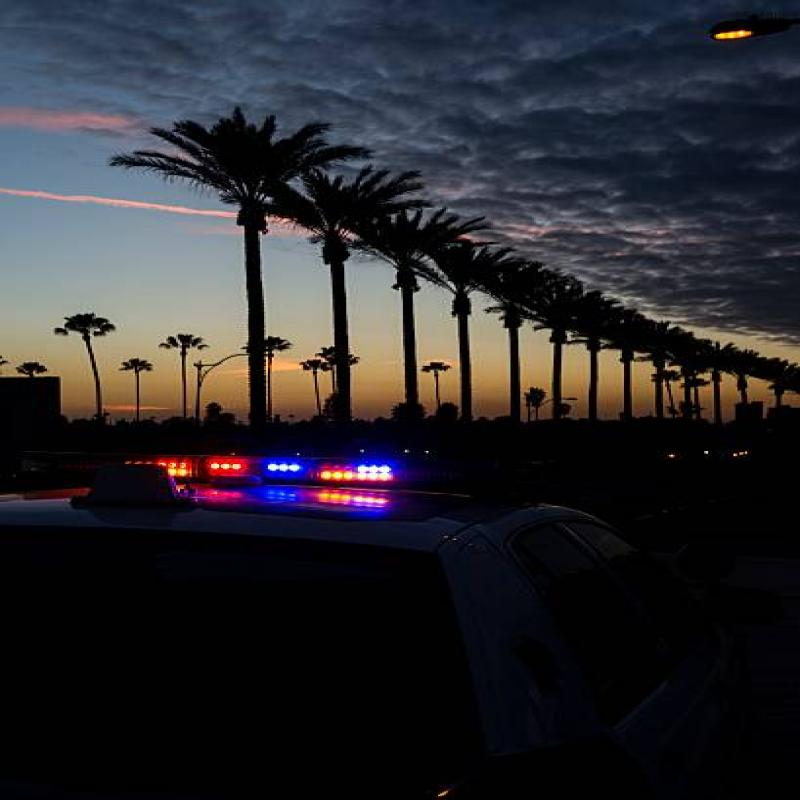AmbulanceSiren: (138, 430, 427, 514)
